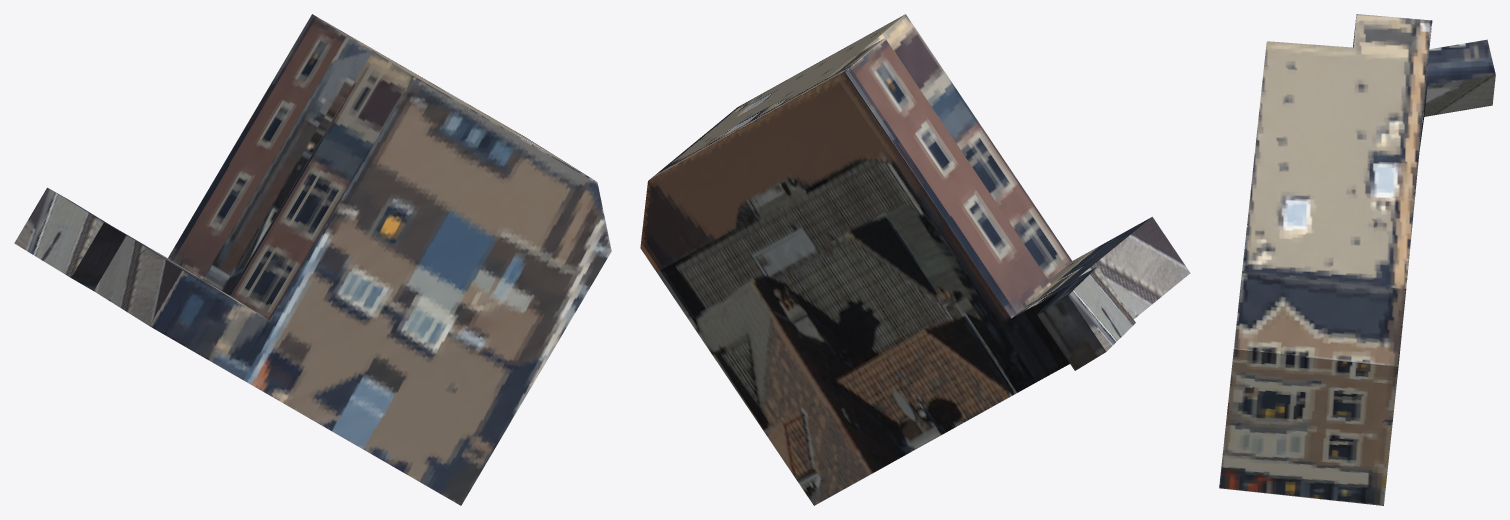
3 views of the same model, side by side, from view 1: azimuth 30°, elevation 25°; view 2: azimuth 150°, elevation 25°; view 3: azimuth 270°, elevation 25° (orthographic). The views are drawn at different scales.
Parts seen in each view (by area): view 1: BAG_0599100000700986 (×5); view 2: BAG_0599100000700986 (×5); view 3: BAG_0599100000700986 (×3).
Part boxes in pixels (x1,y1,x2,y2): BAG_0599100000700986 (×5): (14,14,611,505); BAG_0599100000700986 (×5): (640,14,1190,505); BAG_0599100000700986 (×3): (1219,14,1495,505).
Bounding box in the file's own units: 21.54 × 19.05 × 10.29.
Materials: 1 (1 with a texture image).
